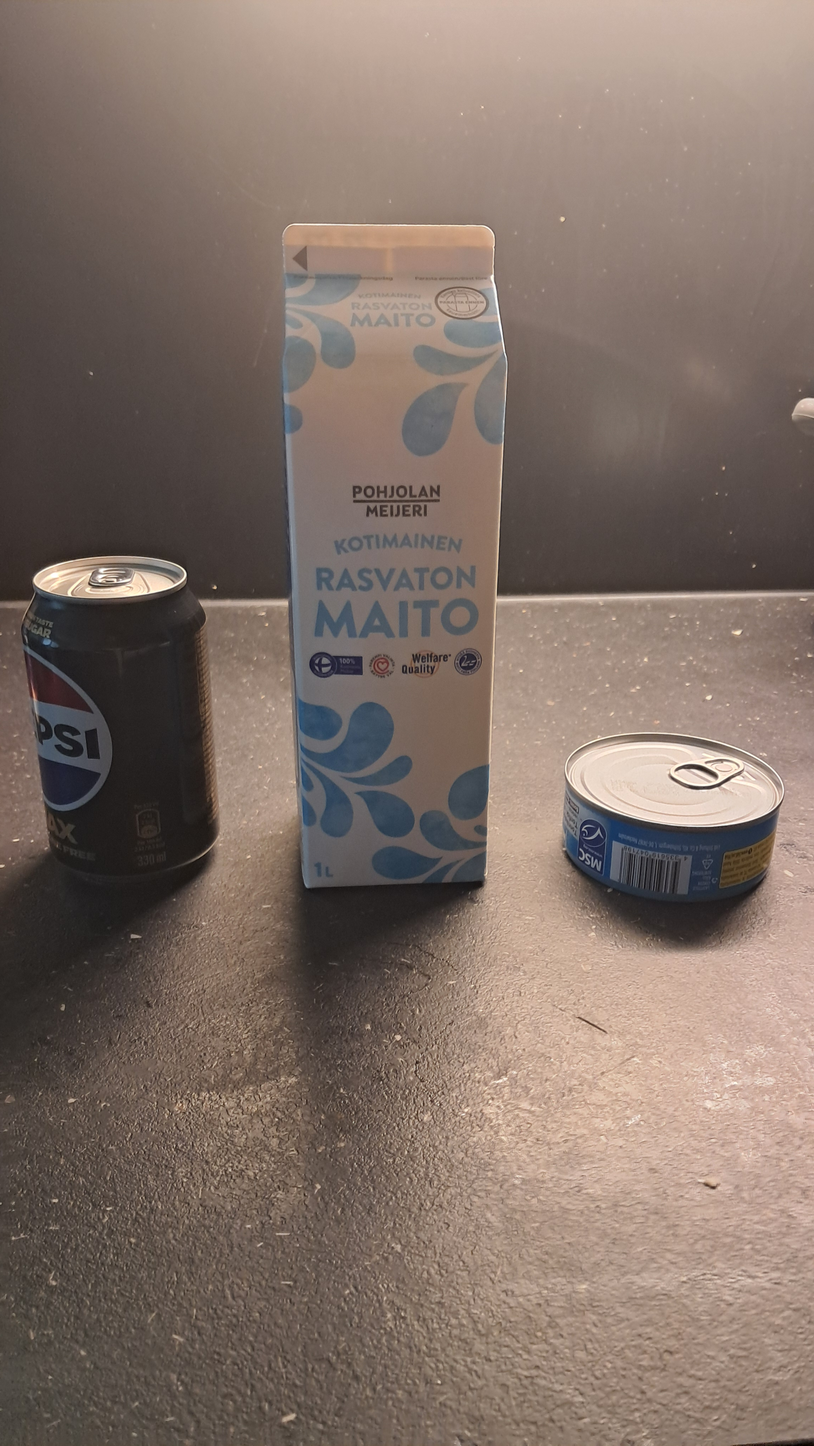Dryckeskartong: (17, 552, 223, 874)
Konservburk: (554, 732, 785, 909)
Pantburk: (276, 223, 508, 898)
